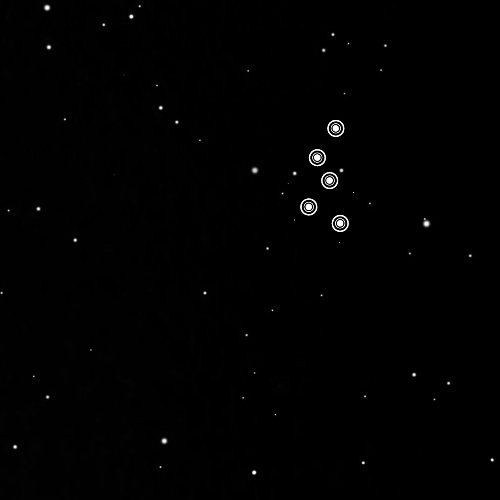cassiopeia: (298, 115, 351, 239)
